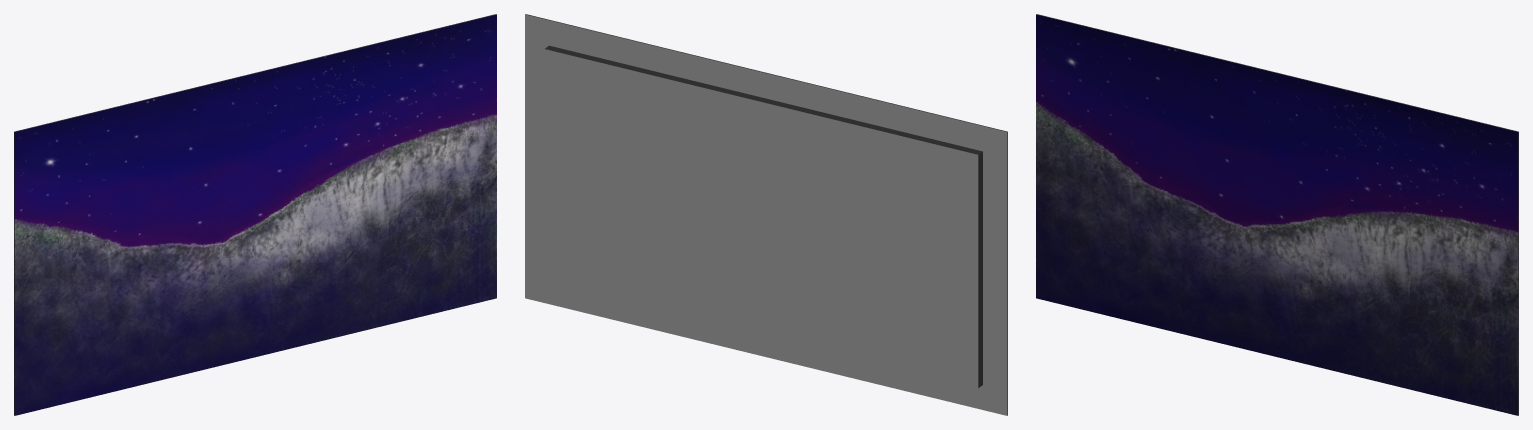
Rendered from hz029_grand_dibond.glb.
3 renders of one model, left to right at view 1: azimuth 30°, elevation 25°; view 2: azimuth 150°, elevation 25°; view 3: azimuth 330°, elevation 25°, orthographic.
Visible parts, largest first — view 1: hz029_grand_dibond; view 2: hz029_grand_dibond; view 3: hz029_grand_dibond.
Boxes of the visible parts, x1,y1,x2,y2 form: hz029_grand_dibond: [14, 14, 496, 415]; hz029_grand_dibond: [525, 14, 1007, 415]; hz029_grand_dibond: [1036, 14, 1518, 415].
Size of the model in its own units: 1.2 by 0.675 by 0.023.
4 materials, 1 textured.
